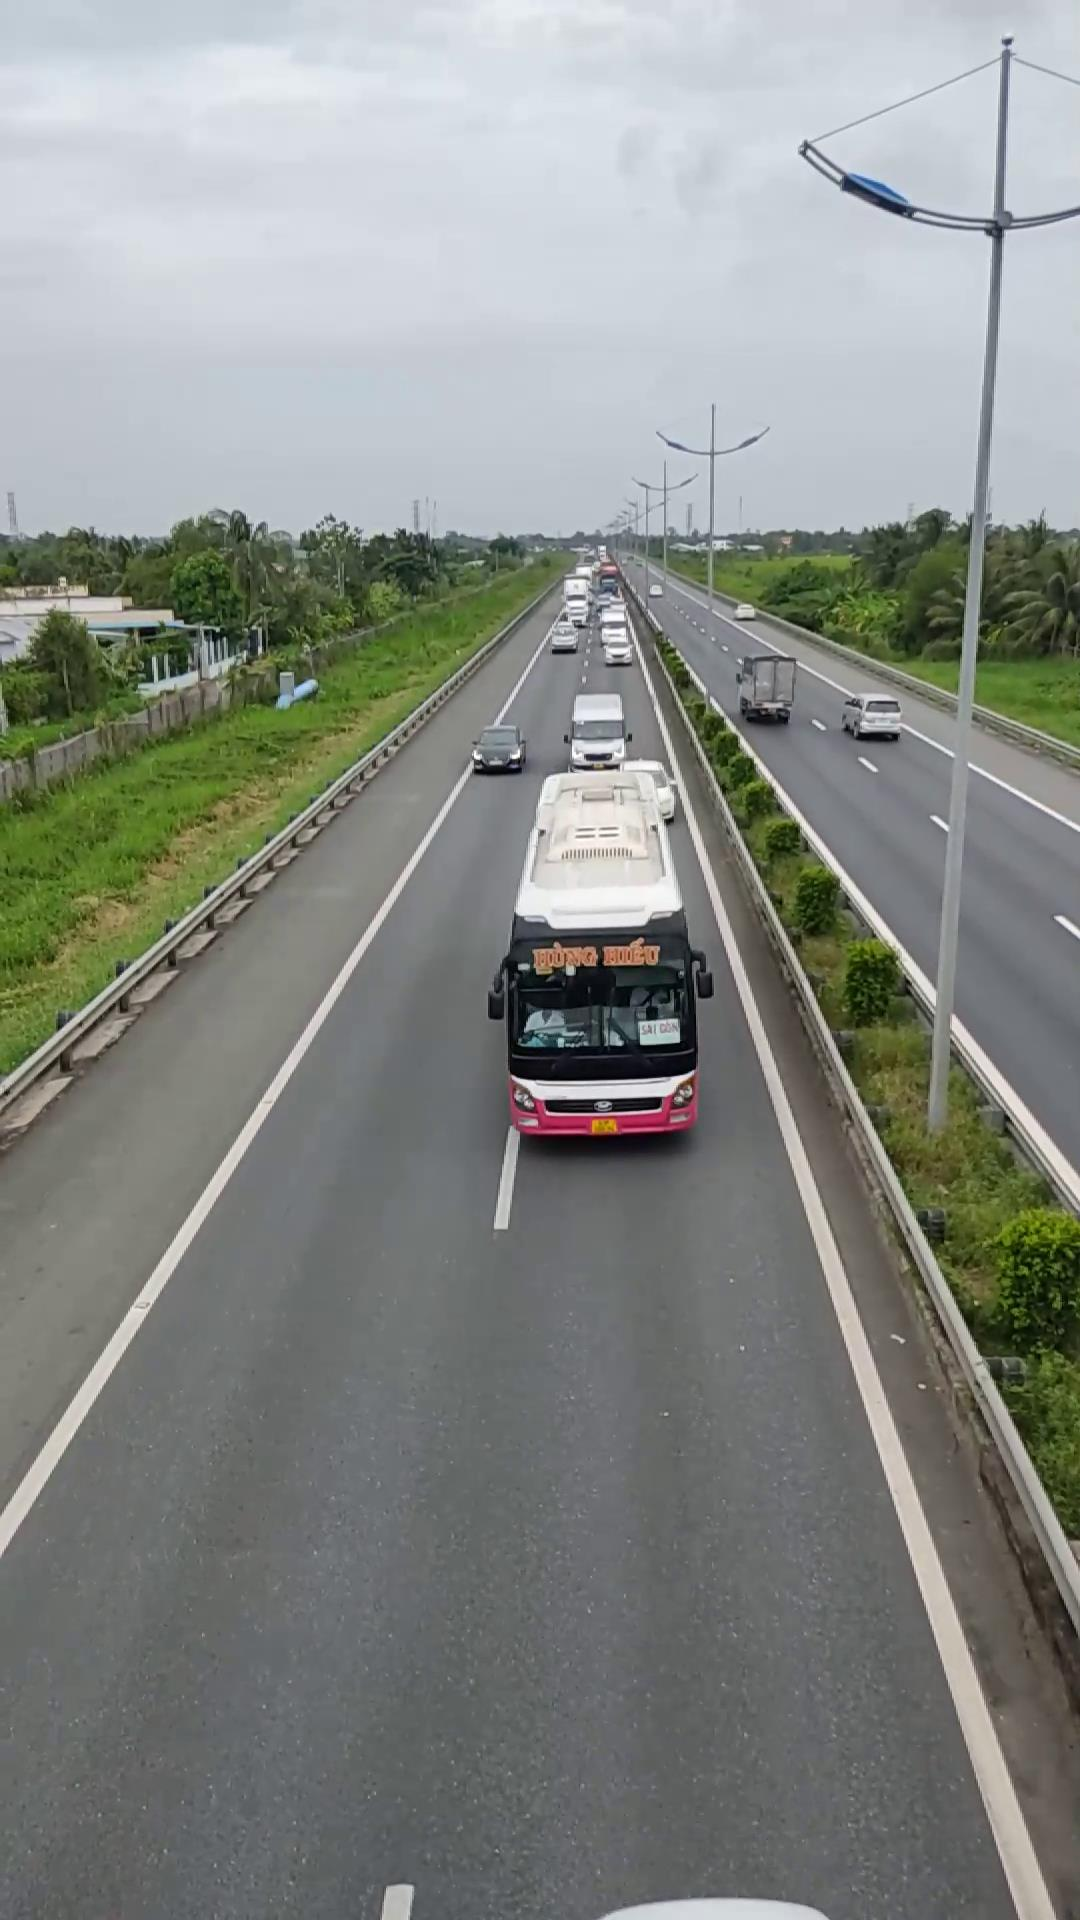bus: (488, 761, 709, 1145)
truck: (735, 651, 795, 723)
